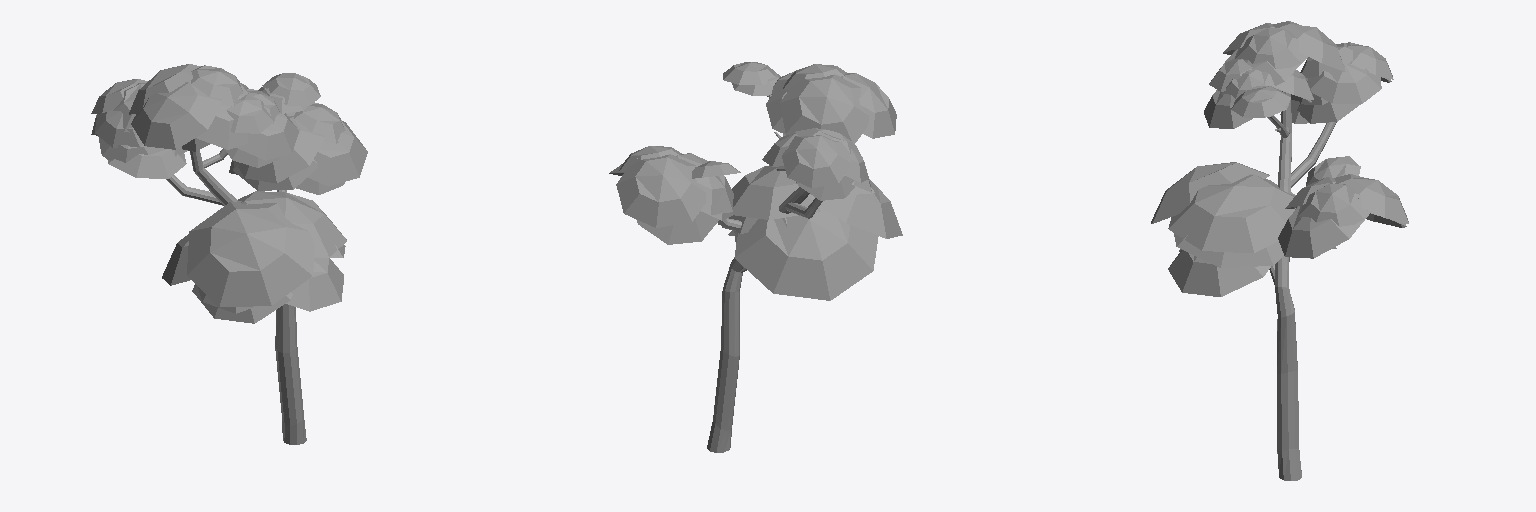
Rendered from Birch_6.obj.
The picture shows the model from 3 angles: view 1: azimuth 30°, elevation 25°; view 2: azimuth 150°, elevation 25°; view 3: azimuth 270°, elevation 25°; orthographic projection.
Visible parts, largest first — view 1: Birch_6; view 2: Birch_6; view 3: Birch_6.
Boxes of the visible parts, <box> form: Birch_6: <box>91,64,367,444</box>; Birch_6: <box>609,62,902,452</box>; Birch_6: <box>1151,21,1408,480</box>.
Bounding box in the file's own units: 6.53 × 9.61 × 5.67.